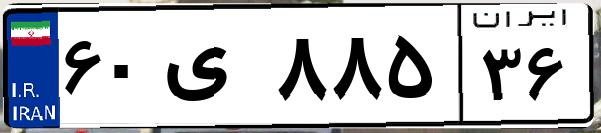0: (110, 28, 158, 98)
3: (475, 38, 525, 113)
5: (385, 28, 445, 110)
6: (57, 26, 110, 100), (525, 38, 570, 115)
8: (270, 28, 330, 110), (330, 28, 385, 110)
ی: (158, 20, 270, 120)
